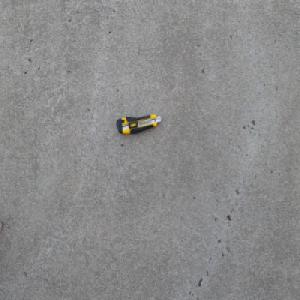Cutter: (116, 113, 161, 134)
